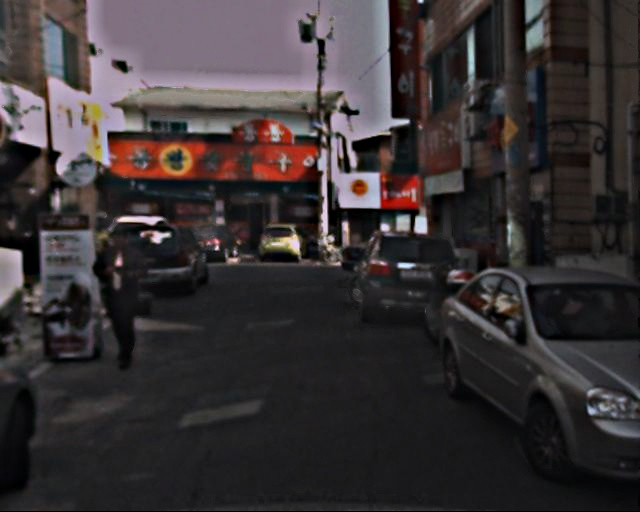person: (95, 224, 158, 372)
